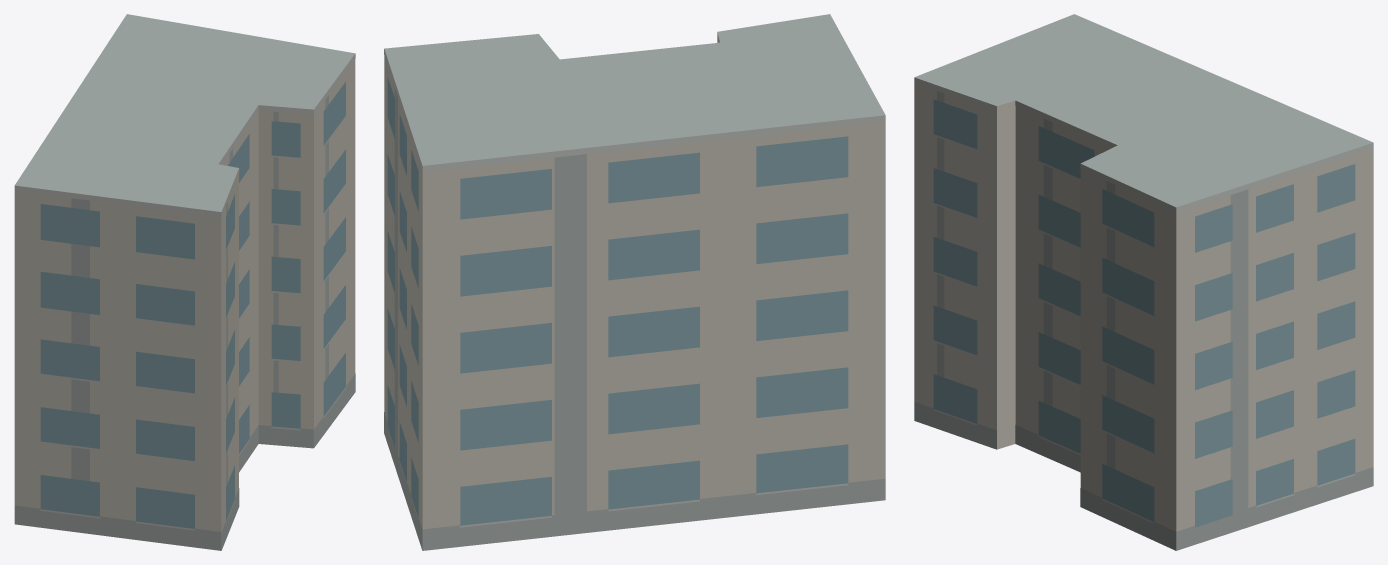
The model's file is residential-740ce4f4-2e00-4979-b412-e789a23b767f.glb.
3 renders of one model, left to right at view 1: azimuth 30°, elevation 25°; view 2: azimuth 150°, elevation 25°; view 3: azimuth 270°, elevation 25°, orthographic. The views are drawn at different scales.
Visible parts, largest first — view 1: residential-740ce4f4-2e00-4979-b412-e789a23b767f.tmp; view 2: residential-740ce4f4-2e00-4979-b412-e789a23b767f.tmp; view 3: residential-740ce4f4-2e00-4979-b412-e789a23b767f.tmp.
Boxes of the visible parts, x1=… form: residential-740ce4f4-2e00-4979-b412-e789a23b767f.tmp: x1=14, y1=14, x2=355, y2=550; residential-740ce4f4-2e00-4979-b412-e789a23b767f.tmp: x1=384, y1=14, x2=885, y2=550; residential-740ce4f4-2e00-4979-b412-e789a23b767f.tmp: x1=914, y1=14, x2=1373, y2=550.
Bounding box in the file's own units: 18.43 × 15.25 × 18.5.
